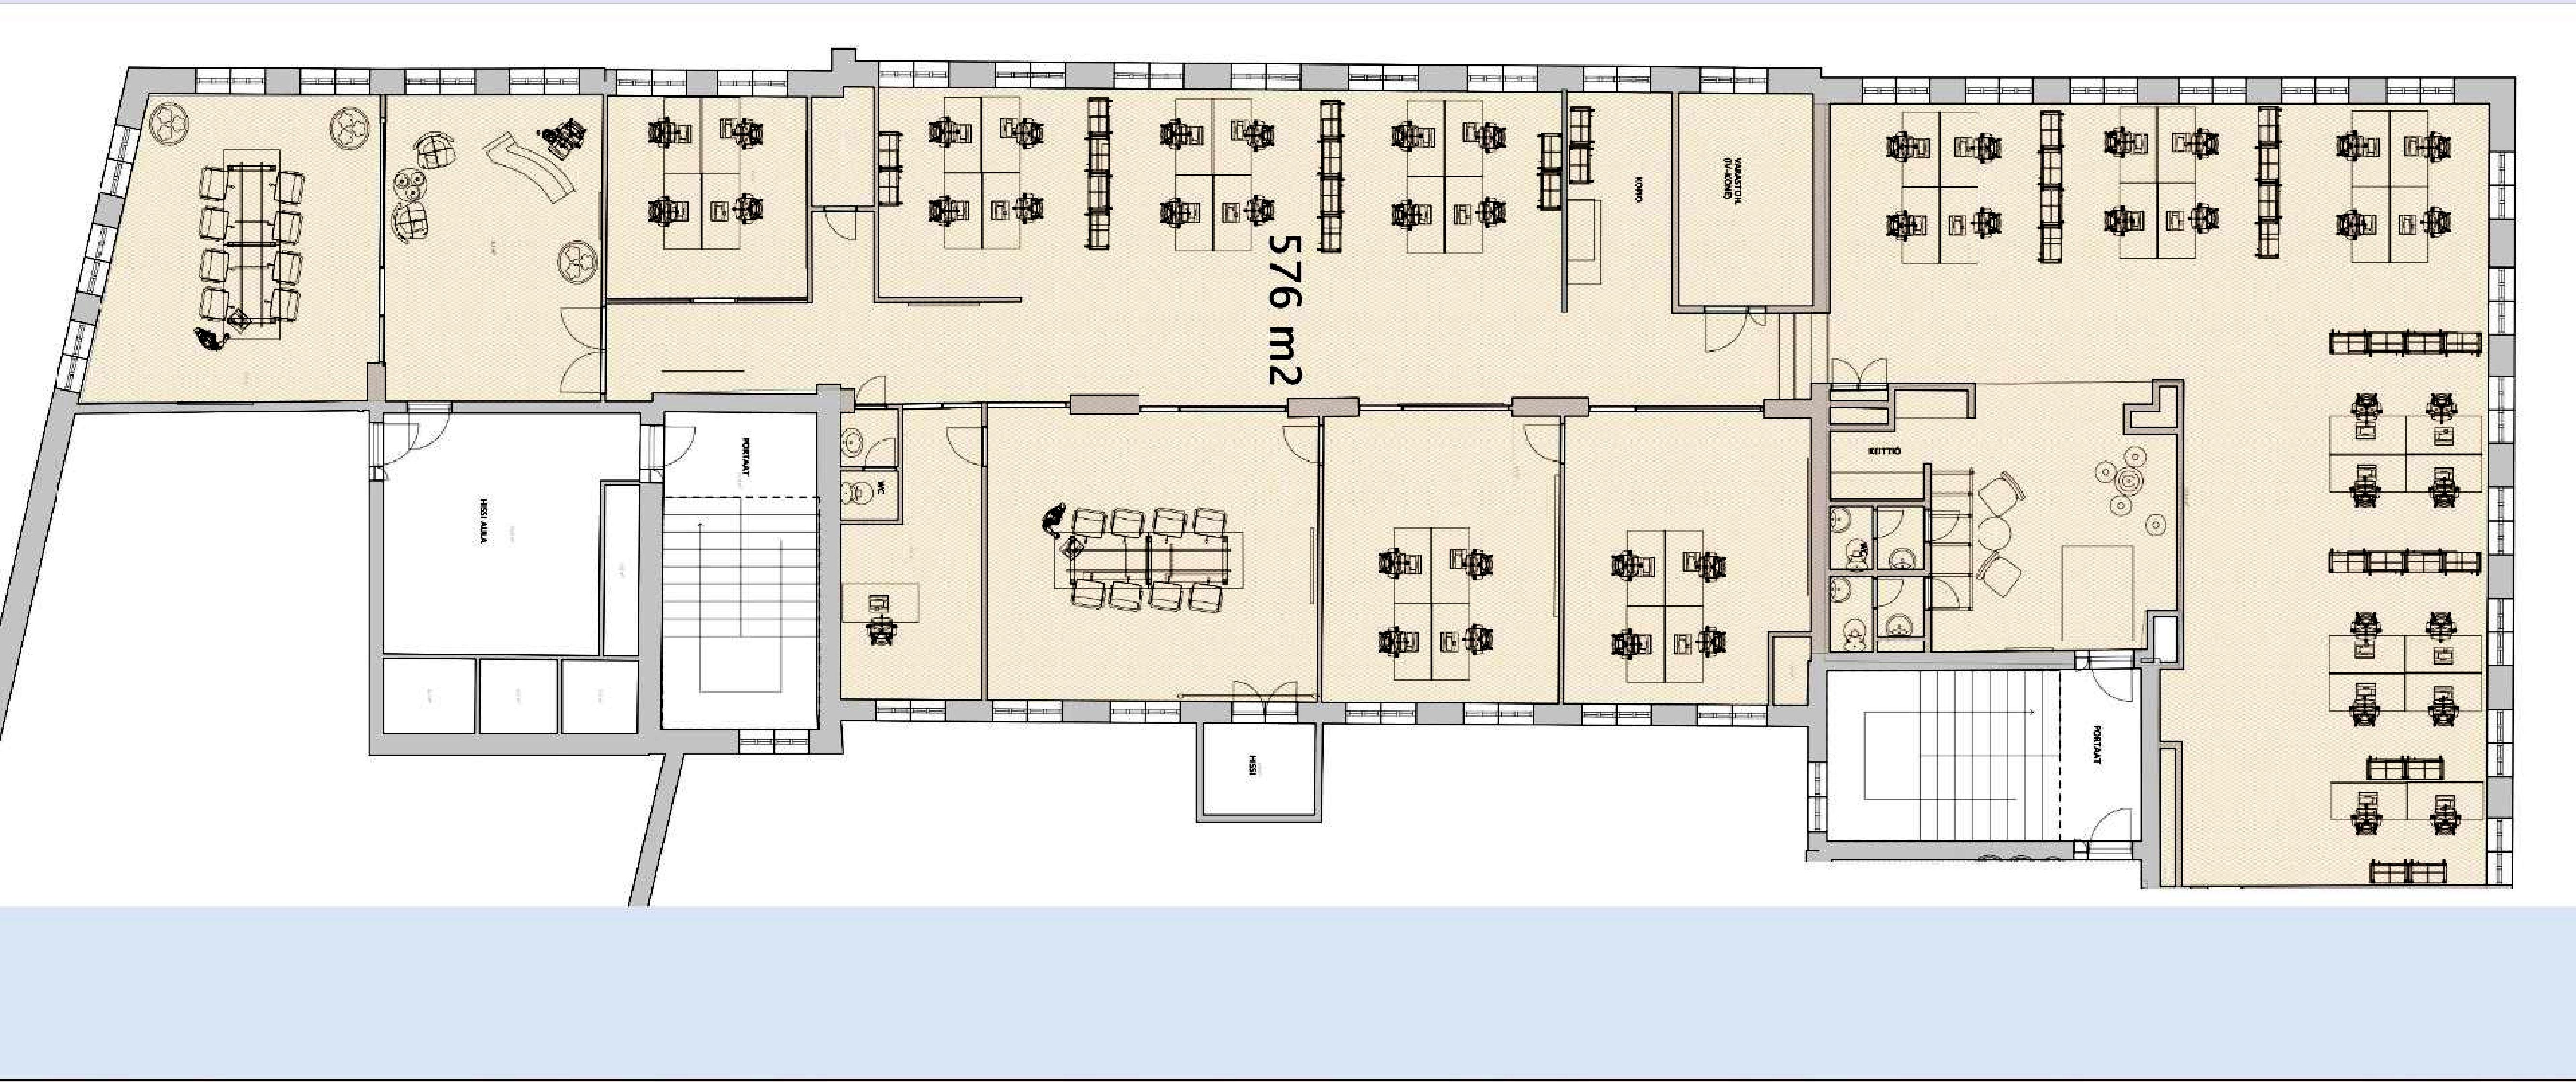door: (549, 299, 609, 397), (2072, 642, 2139, 709), (632, 425, 695, 483), (1222, 681, 1301, 724), (2077, 808, 2139, 860), (936, 424, 991, 478), (1520, 419, 1567, 475), (1702, 307, 1769, 346), (1820, 353, 1893, 389), (407, 401, 460, 445), (363, 427, 419, 468), (1283, 425, 1332, 468), (818, 200, 858, 250), (864, 438, 904, 478), (851, 376, 885, 417)
window: (34, 120, 145, 396), (734, 722, 813, 763), (2479, 151, 2523, 220), (2482, 373, 2520, 453), (874, 61, 961, 95), (987, 57, 1073, 92), (2067, 72, 2141, 112), (509, 61, 582, 100), (2274, 79, 2354, 113), (611, 67, 690, 100), (1464, 61, 1538, 95), (2482, 596, 2515, 670), (2482, 819, 2520, 882), (2482, 484, 2515, 552), (871, 701, 945, 731), (1580, 64, 1649, 95), (2487, 718, 2522, 780), (297, 64, 373, 92), (718, 64, 782, 97), (2486, 269, 2518, 332), (1109, 67, 1181, 95), (1963, 79, 2035, 107), (1804, 760, 1832, 832), (2173, 79, 2241, 108), (1694, 704, 1761, 734), (1112, 696, 1183, 724), (407, 61, 473, 90), (1347, 64, 1413, 94), (1341, 699, 1410, 727), (1582, 701, 1646, 731), (1232, 64, 1295, 94), (1860, 79, 1932, 103), (1702, 67, 1768, 94), (2384, 80, 2451, 105), (197, 67, 260, 94), (1460, 703, 1526, 726), (994, 701, 1065, 722)
zone: (1828, 103, 2494, 875), (600, 92, 1824, 406), (991, 406, 1311, 698), (84, 89, 378, 401), (1833, 389, 2173, 647), (386, 415, 631, 732), (1324, 406, 1554, 706), (1567, 417, 1805, 704), (386, 95, 598, 399), (1827, 672, 2139, 842), (664, 415, 815, 726), (836, 406, 977, 701)
